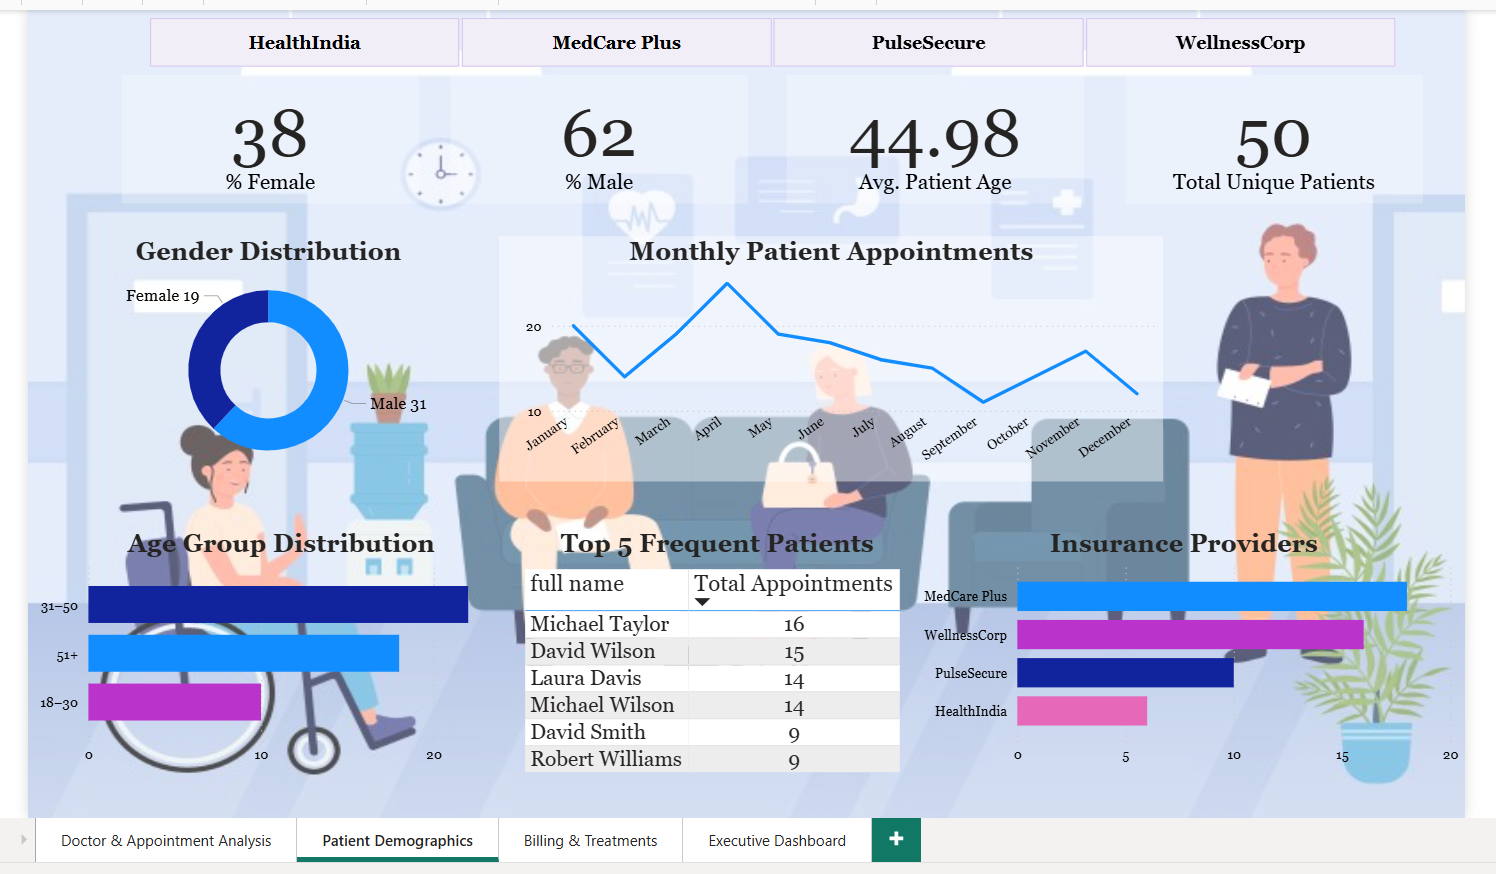

The dashboard page shown, as its layout file describes it:
{"tool":"powerbi","page":{"name":"Patient Demographics","canvas":[1280,720],"ordinal":1},"visuals":[{"type":"card","fields":{"Values":["Measure.Total Patients"]},"box":[977.6,58,264.7,114.3],"z":0},{"type":"card","fields":{"Values":["Measure.Average Age"]},"box":[675.2,58,264.7,114.3],"z":1000},{"type":"card","fields":{"Values":["Measure.% Female"]},"box":[83.6,58,264.7,114.3],"z":2000},{"type":"card","fields":{"Values":["Measure.% Male"]},"box":[375.8,58,264.7,114.3],"z":3000},{"type":"donutChart","title":"Gender Distribution","fields":{"Category":["patients.gender"],"Y":["CountNonNull(patients.patient_id)"]},"box":[43.9,201.7,341.7,218.2],"z":4000},{"type":"barChart","title":"Age Group Distribution","fields":{"Category":["patients.age group"],"Y":["CountNonNull(patients.patient_id)"]},"box":[0,461.5,451.4,217],"z":5000},{"type":"tableEx","title":"Top 5 Frequent Patients","fields":{"Values":["patients.full name","Measure.total appointments"]},"box":[436.6,462,354.9,226.8],"z":6000},{"type":"barChart","title":"Insurance Providers","fields":{"Category":["patients.insurance_provider"],"Y":["CountNonNull(patients.patient_id)"]},"box":[779.7,461.5,500.5,217],"z":7000},{"type":"slicer","fields":{"Values":["patients.insurance_provider"]},"box":[82.3,0,1159.5,57.6],"z":8000},{"type":"lineChart","title":"Monthly Patient Appointments","fields":{"Category":["appointments.appointment_date.Variation.Date Hierarchy.Year","appointments.appointment_date.Variation.Date Hierarchy.Quarter","appointments.appointment_date.Variation.Date Hierarchy.Month","appointments.appointment_date.Variation.Date Hierarchy.Day"],"Y":["CountNonNull(appointments.appointment_id)"]},"box":[419.9,201.7,591.4,218.2],"z":9000}]}

Visuals, with their boxes on the page's 1280x720 design canvas (x1, y1, x2, y2). These are canvas units, not pixel positions in the 1496x874 screenshot, which may show the page scaled, cropped or inside an application window:
card - Measure.Total Patients: Rect(978, 58, 1242, 172)
card - Measure.Average Age: Rect(675, 58, 940, 172)
card - Measure.% Female: Rect(84, 58, 348, 172)
card - Measure.% Male: Rect(376, 58, 640, 172)
"Gender Distribution" donutChart: Rect(44, 202, 386, 420)
"Age Group Distribution" barChart: Rect(0, 462, 451, 678)
"Top 5 Frequent Patients" tableEx: Rect(437, 462, 792, 689)
"Insurance Providers" barChart: Rect(780, 462, 1280, 678)
slicer - patients.insurance_provider: Rect(82, 0, 1242, 58)
"Monthly Patient Appointments" lineChart: Rect(420, 202, 1011, 420)
